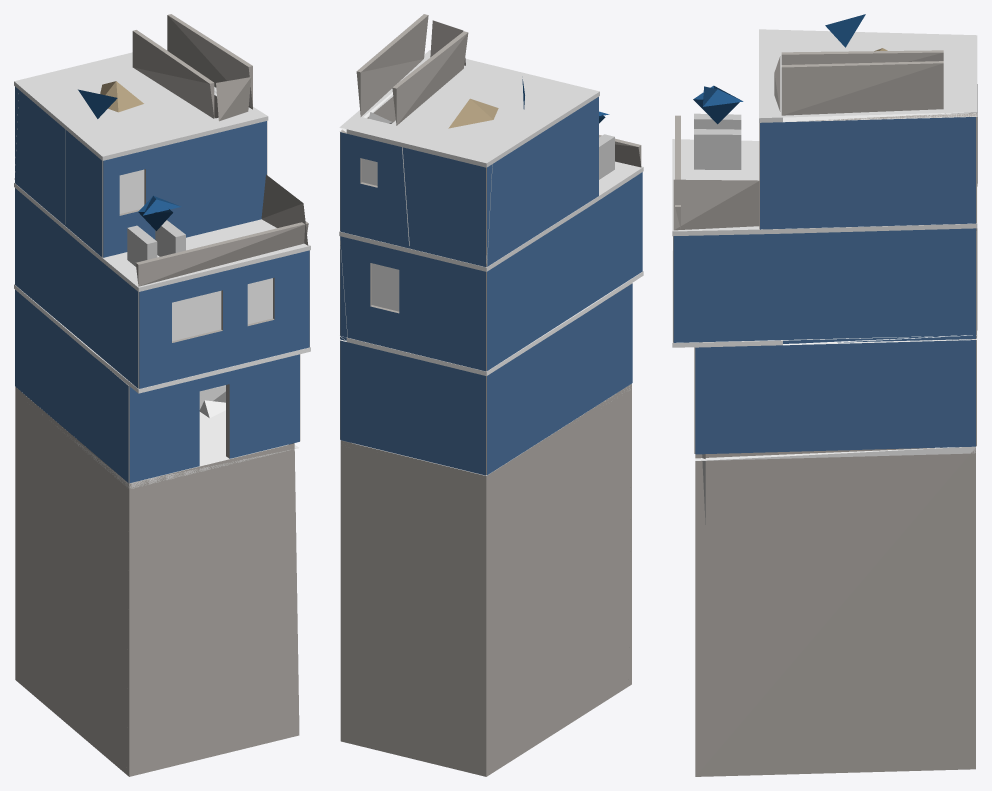
3 renders of one model, left to right at view 1: azimuth 30°, elevation 25°; view 2: azimuth 150°, elevation 25°; view 3: azimuth 270°, elevation 25°, orthographic. The views are drawn at different scales.
Parts seen in each view (by area): view 1: F_29; view 2: F_29; view 3: F_29.
Boxes of the visible parts, box(x1,y1,x2,y2) form: F_29: box(14, 14, 310, 776); F_29: box(339, 14, 643, 776); F_29: box(672, 14, 977, 776).
Bounding box in the file's own units: 5.06 × 18.03 × 7.06.
